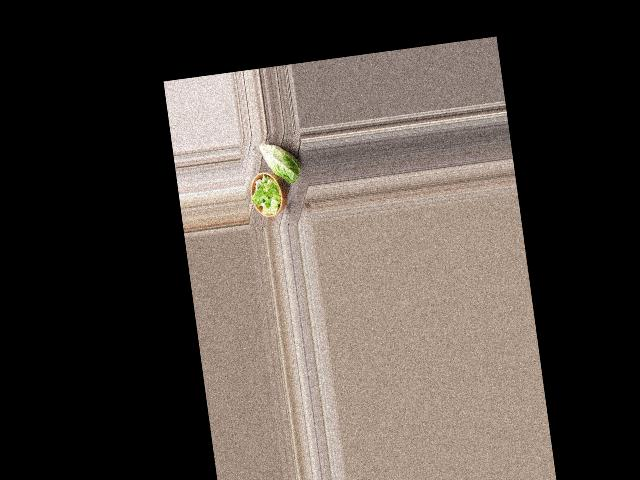lettuce: (258, 139, 303, 186)
